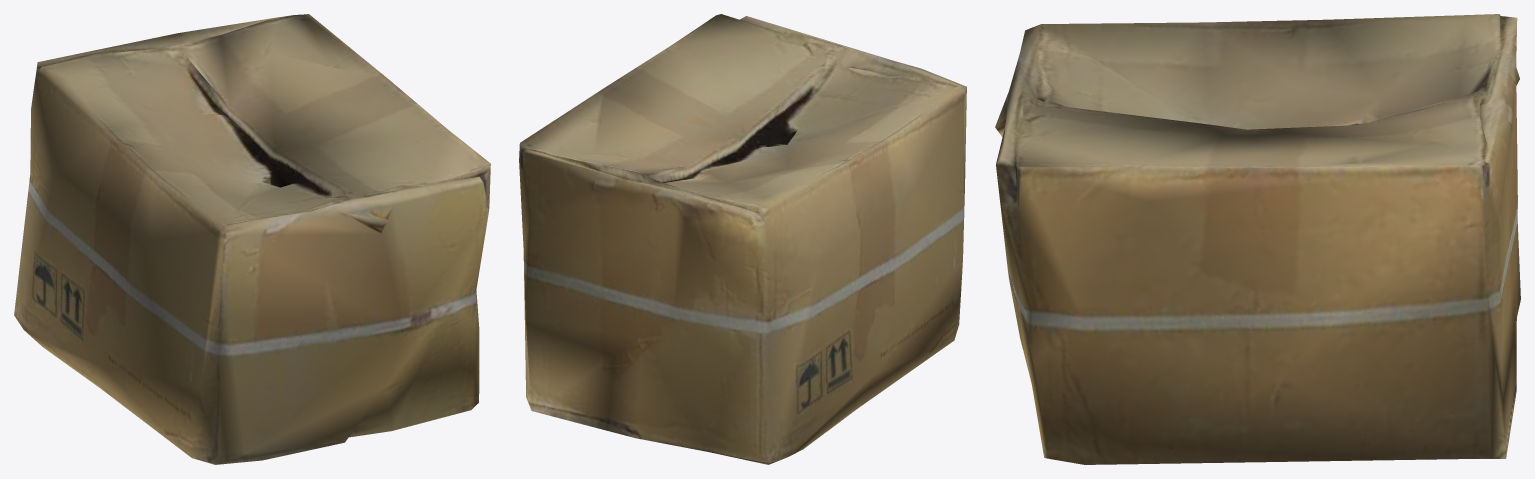
The model's file is cardboard_box_01.glb.
3 views of the same model, side by side, from view 1: azimuth 30°, elevation 25°; view 2: azimuth 150°, elevation 25°; view 3: azimuth 270°, elevation 25° (orthographic). The views are drawn at different scales.
Visible parts, largest first — view 1: cardboard_box_01; view 2: cardboard_box_01; view 3: cardboard_box_01.
Part boxes in pixels (x1,y1,x2,y2): cardboard_box_01: [14, 14, 490, 464]; cardboard_box_01: [519, 14, 966, 464]; cardboard_box_01: [995, 14, 1520, 464].
Size of the model in its own units: 0.3827 by 0.3373 by 0.5159.
Materials: 1 (1 with a texture image).
